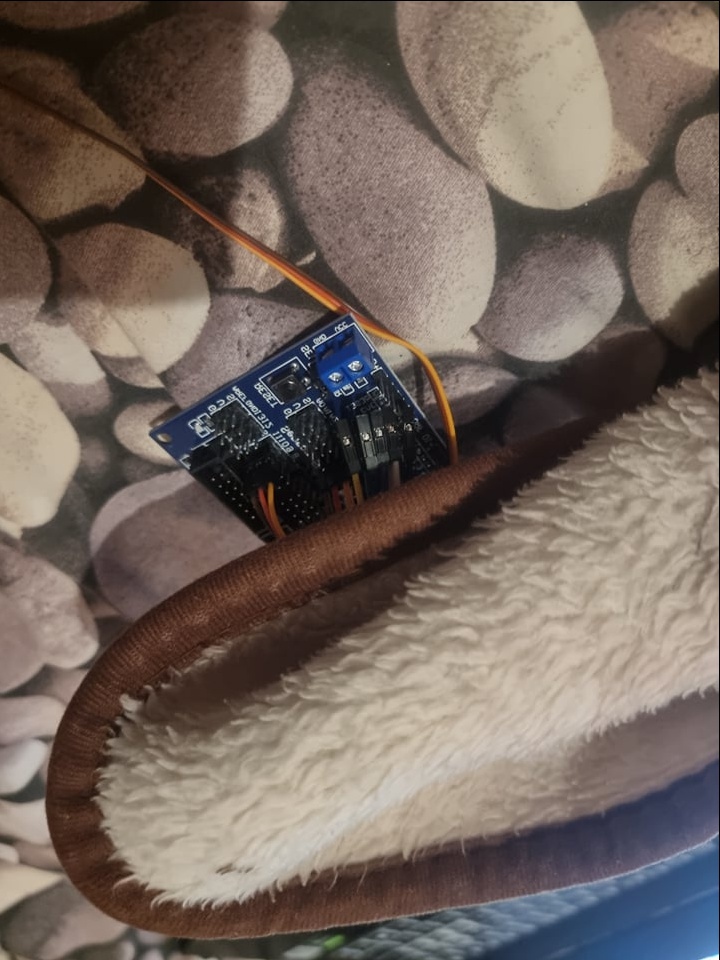5V EXPANSION: (151, 309, 453, 555)
